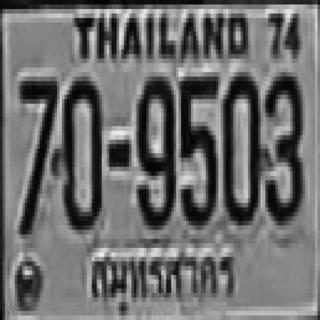N00: (60, 72, 99, 225), (222, 70, 259, 223)
N03: (263, 70, 300, 223)
N05: (179, 72, 216, 225)
N07: (17, 74, 57, 232)
N09: (136, 72, 174, 225)
P58: (84, 244, 237, 316)
